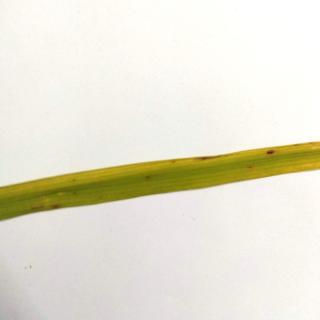bercak-Cokelat: (40, 200, 72, 215), (264, 146, 280, 158)
